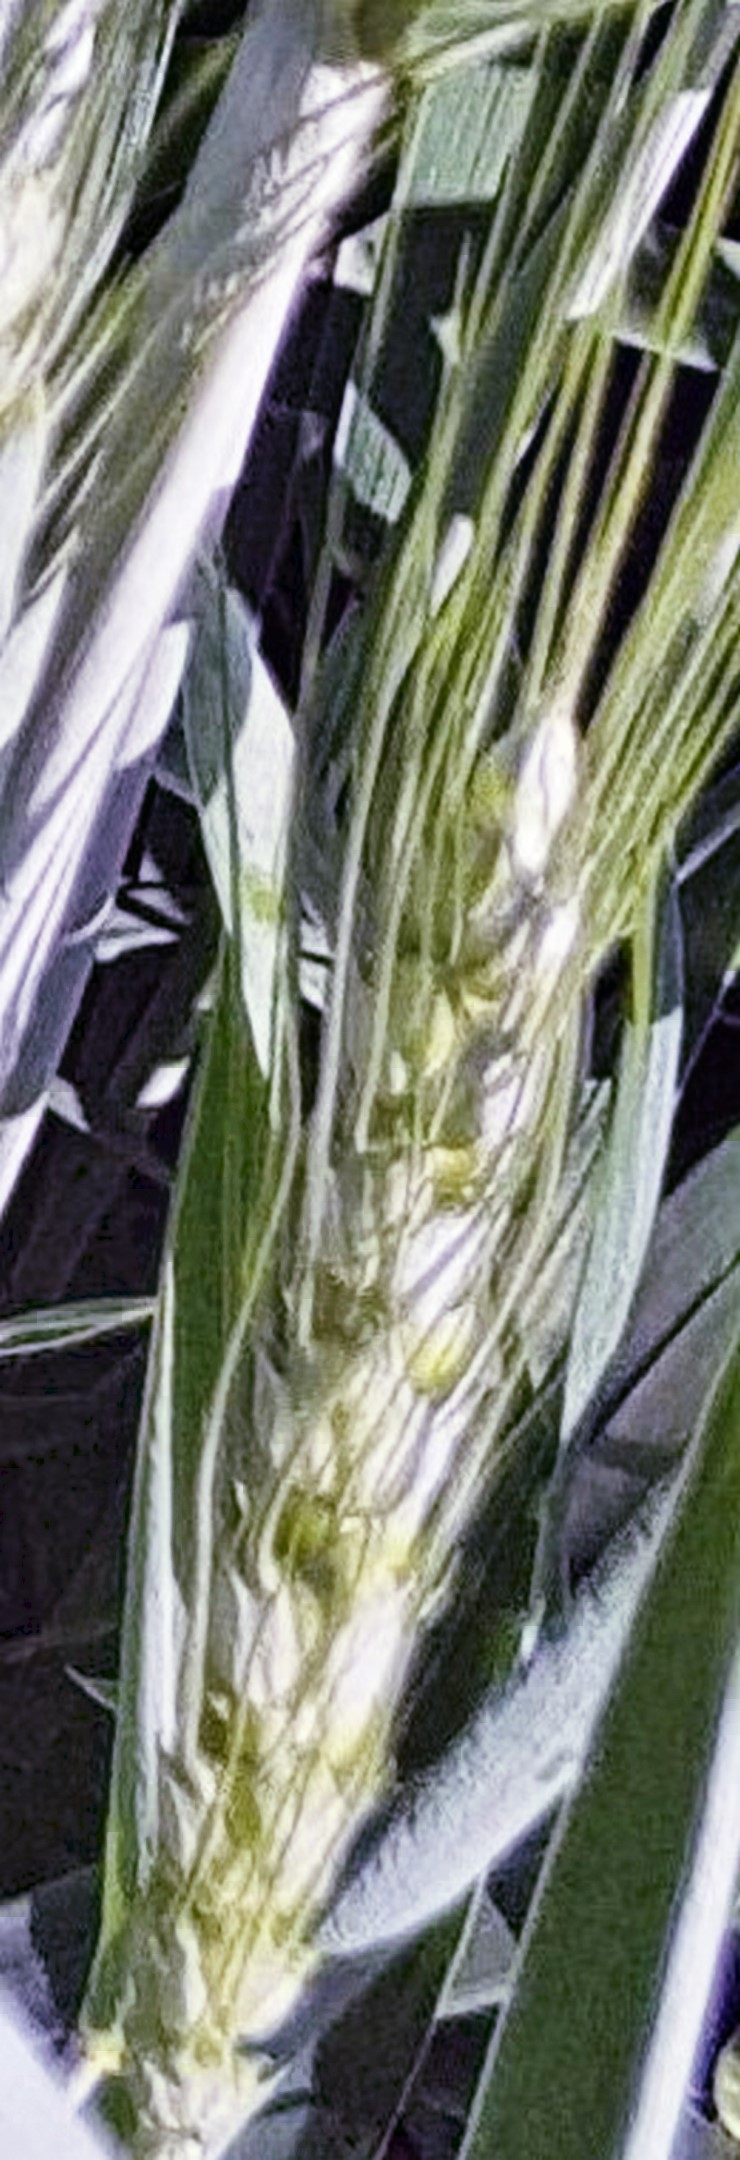Healthy Wheat: (164, 715, 679, 2010)
